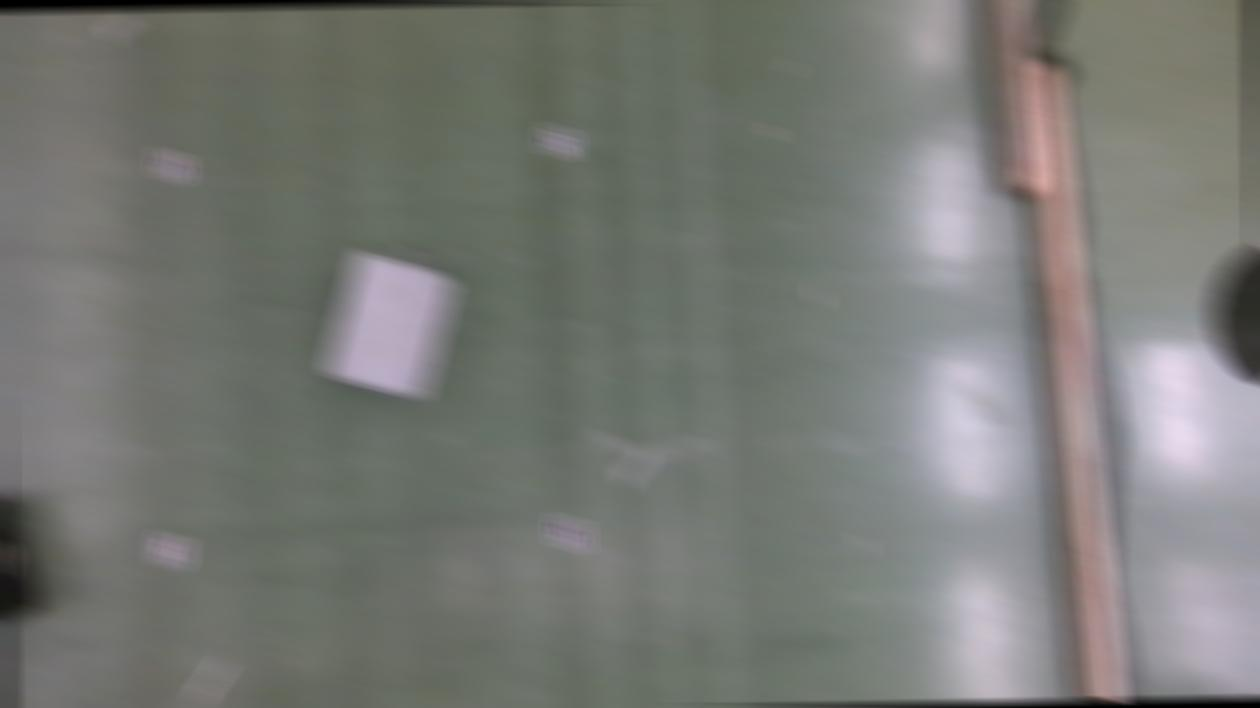probes: (192, 658, 232, 703), (616, 446, 655, 488)
rako: (318, 250, 457, 403)
